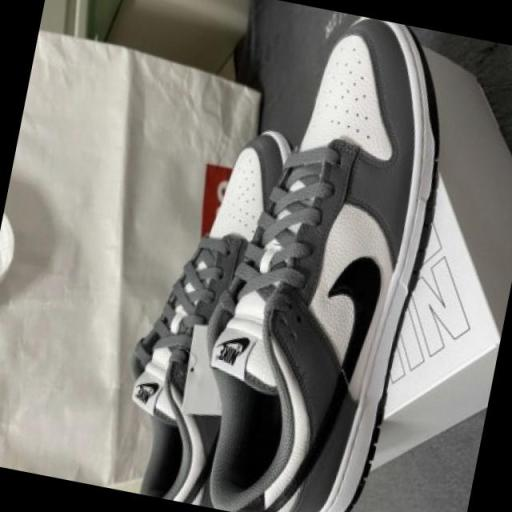Nike: (271, 245, 391, 512)
